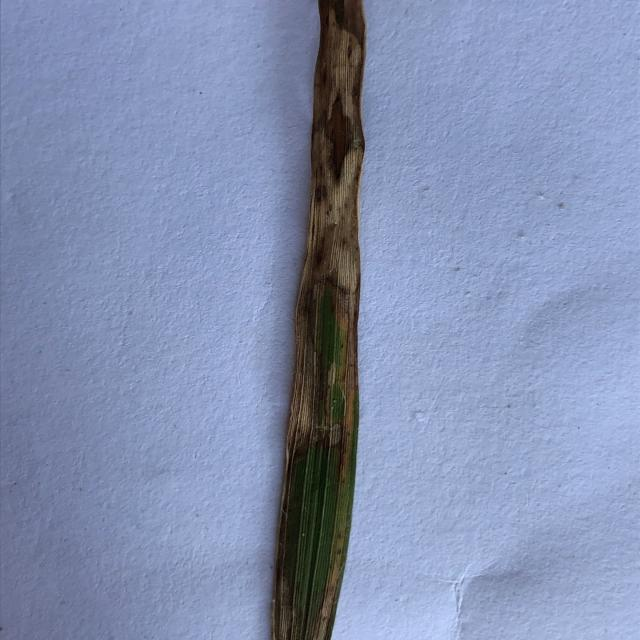leaf blight: (286, 0, 370, 464), (268, 535, 350, 640)
